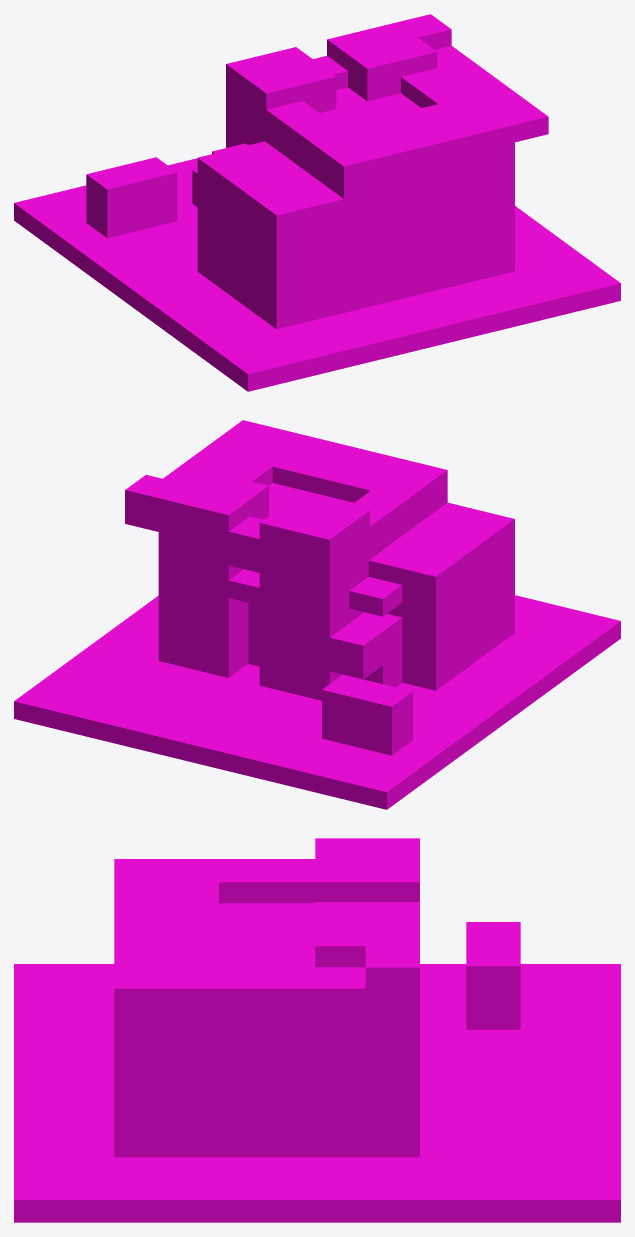
3 renders of one model, top to bottom at view 1: azimuth 30°, elevation 25°; view 2: azimuth 150°, elevation 25°; view 3: azimuth 270°, elevation 25°, orthographic. The views are drawn at different scales.
Parts seen in each view (by area): view 1: col_floor_12, col_block_81, col_roof_73, col_roof_04, col_roof_102, col_roof_98, col_roof_100, col_floor_48, col_floor_108, col_block_82, col_floor_24, col_roof_90 (+127 smaller); view 2: col_floor_01, col_roof_01, col_roof_101, col_roof_97, col_block_126, col_block_81, col_block_202, col_floor_109, col_floor_61, col_floor_85, col_floor_13, col_roof_105 (+132 smaller); view 3: col_roof_105, col_block_82, col_floor_121, col_roof_96, col_roof_93, col_roof_95, col_roof_94, col_floor_130, col_floor_125, col_floor_129, col_floor_123, col_floor_122 (+142 smaller).
Boxes of the visible parts, left/top/right/bottom form: col_floor_12: left=227, top=351, right=284, bottom=391; col_block_81: left=86, top=165, right=143, bottom=205; col_roof_73: left=323, top=143, right=380, bottom=183; col_roof_04: left=255, top=191, right=312, bottom=232; col_roof_102: left=348, top=45, right=403, bottom=85; col_roof_98: left=247, top=69, right=302, bottom=110; col_roof_100: left=280, top=61, right=336, bottom=101; col_floor_48: left=328, top=325, right=385, bottom=366; col_floor_108: left=499, top=284, right=553, bottom=325; col_block_82: left=122, top=157, right=177, bottom=197; col_floor_24: left=261, top=342, right=317, bottom=382; col_roof_90: left=460, top=109, right=514, bottom=150; col_floor_01: left=350, top=768, right=407, bottom=809; col_roof_01: left=399, top=553, right=456, bottom=594; col_roof_101: left=192, top=491, right=249, bottom=532; col_roof_97: left=293, top=516, right=350, bottom=556; col_block_126: left=327, top=623, right=384, bottom=663; col_block_81: left=355, top=682, right=412, bottom=722; col_block_202: left=349, top=576, right=402, bottom=616; col_floor_109: left=47, top=695, right=104, bottom=735; col_floor_61: left=182, top=728, right=237, bottom=768; col_floor_85: left=115, top=711, right=171, bottom=752; col_floor_13: left=317, top=760, right=370, bottom=801; col_roof_105: left=125, top=474, right=181, bottom=515; col_roof_105: left=365, top=945, right=419, bottom=990; col_block_82: left=466, top=943, right=520, bottom=988; col_floor_121: left=566, top=1178, right=620, bottom=1222; col_roof_96: left=114, top=965, right=168, bottom=1011; col_roof_93: left=265, top=965, right=319, bottom=1011; col_roof_95: left=164, top=965, right=218, bottom=1011; col_roof_94: left=215, top=965, right=269, bottom=1011; col_floor_130: left=114, top=1178, right=168, bottom=1222; col_floor_125: left=365, top=1178, right=419, bottom=1222; col_floor_129: left=164, top=1178, right=218, bottom=1222; col_floor_123: left=466, top=1178, right=520, bottom=1222; col_floor_122: left=516, top=1178, right=570, bottom=1222.
Bounding box in the file's own units: 2535 × 1171 × 2756.
